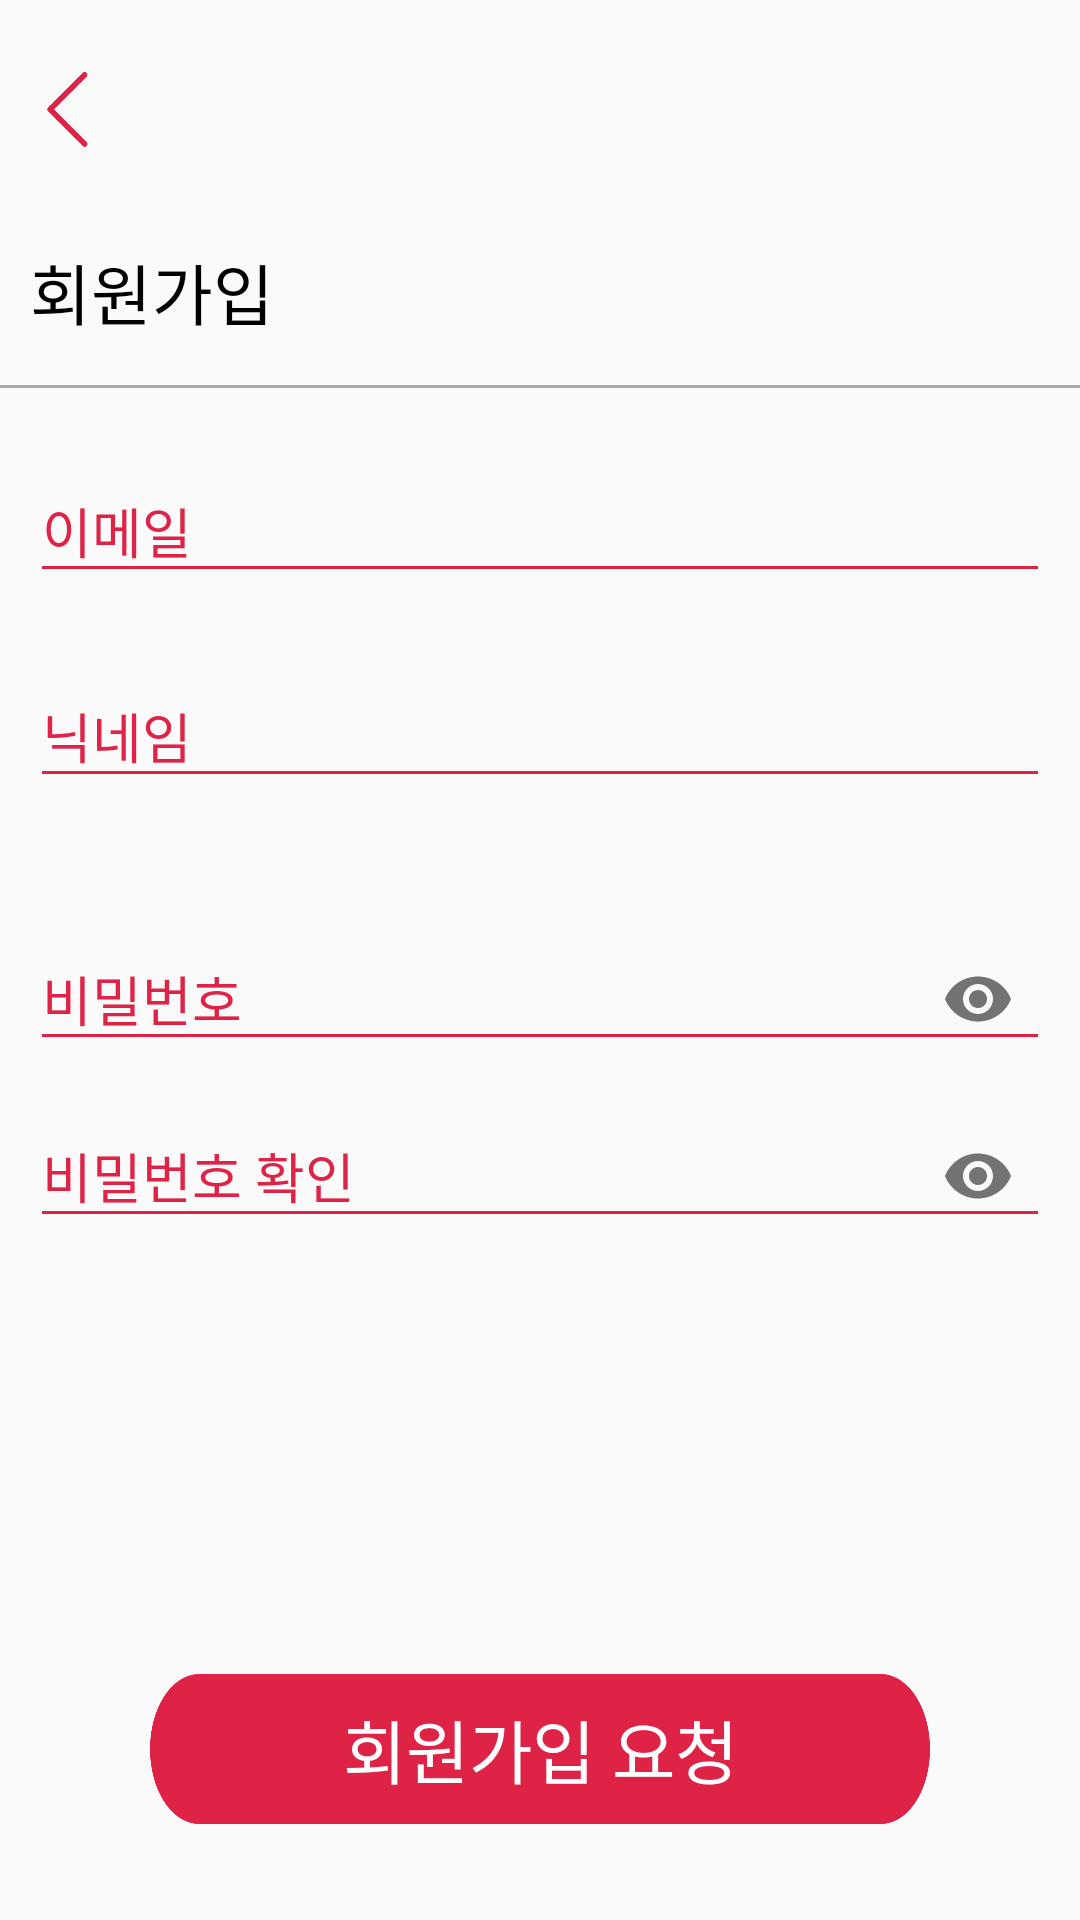

Screen size 1080px×1920px. Icon name, then its center in pixels as (x=x, y=y):
back: (x=67, y=109)
